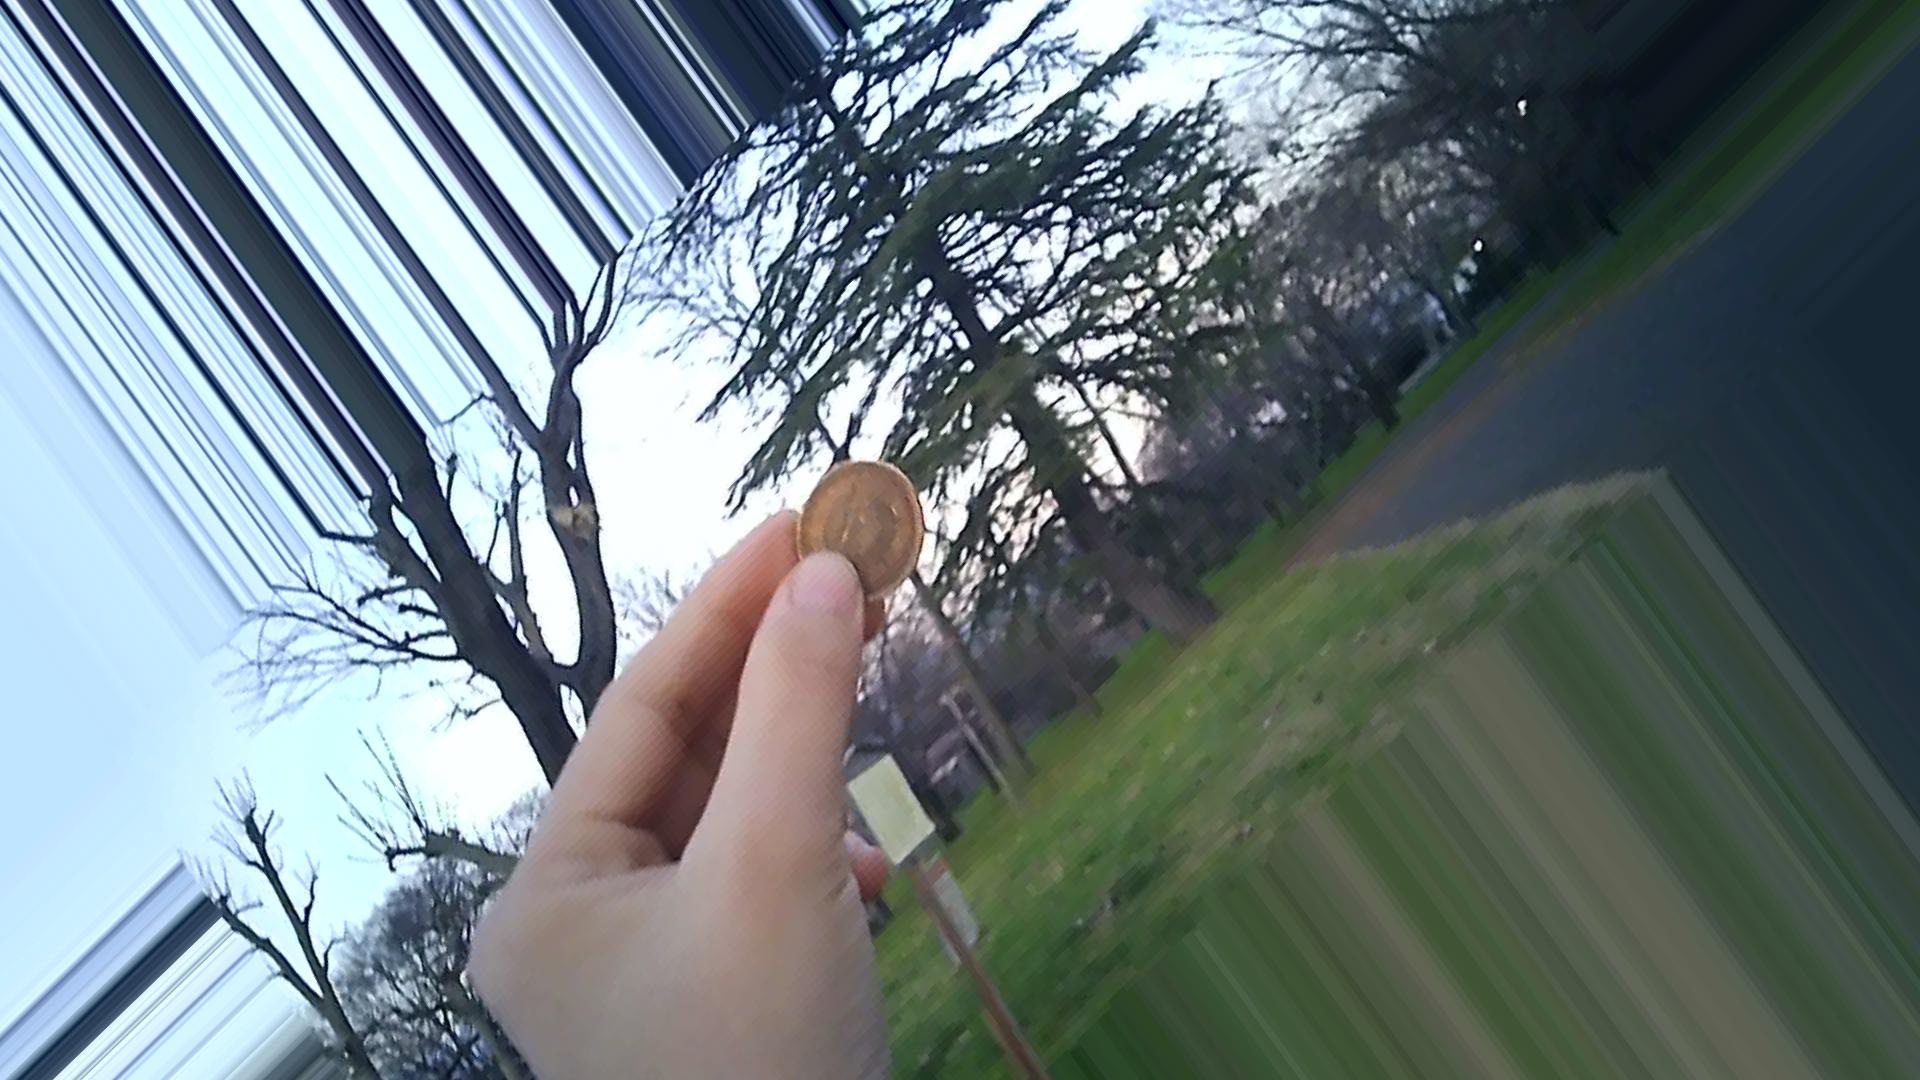10 Yen: (793, 458, 928, 611)
